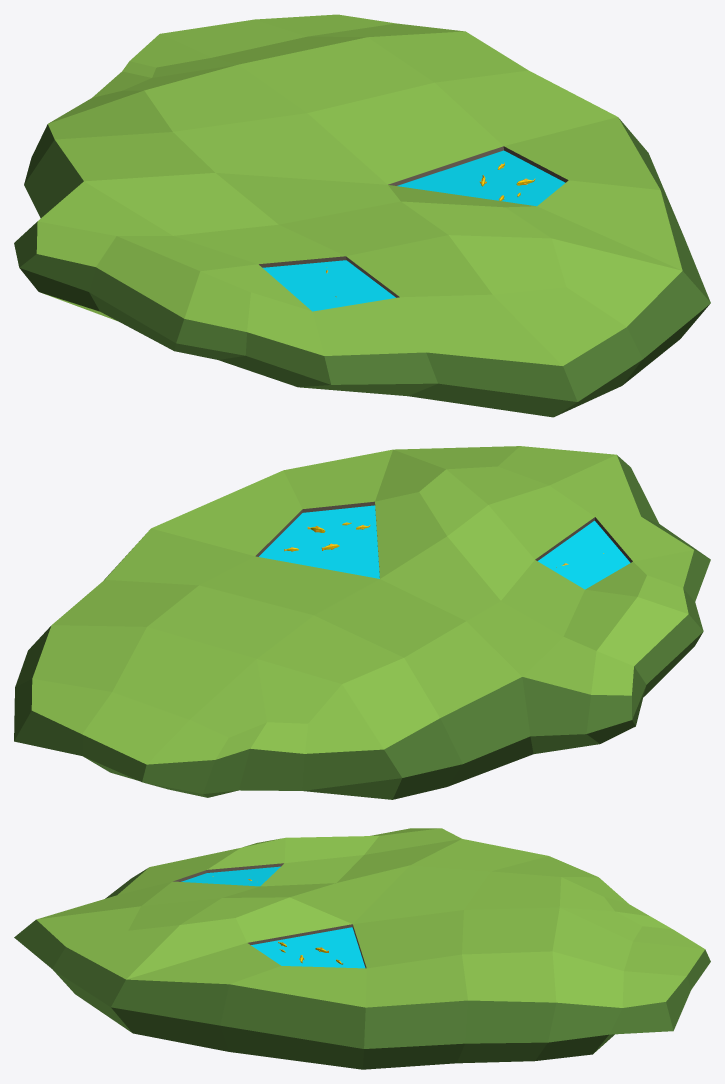
The model's file is notrees.fbx.
3 renders of one model, top to bottom at view 1: azimuth 30°, elevation 25°; view 2: azimuth 150°, elevation 25°; view 3: azimuth 270°, elevation 25°, orthographic. The views are drawn at different scales.
Parts seen in each view (by area): view 1: Asteroid_2012_D14, Asteroid_2012_D14_1; view 2: Asteroid_2012_D14, Asteroid_2012_D14_1; view 3: Asteroid_2012_D14, Asteroid_2012_D14_1.
Part boxes in pixels (bbox=[...]): Asteroid_2012_D14: bbox=[14, 14, 710, 417]; Asteroid_2012_D14_1: bbox=[262, 150, 565, 311]; Asteroid_2012_D14: bbox=[14, 446, 710, 799]; Asteroid_2012_D14_1: bbox=[259, 505, 630, 589]; Asteroid_2012_D14: bbox=[14, 828, 710, 1069]; Asteroid_2012_D14_1: bbox=[181, 866, 365, 968].
Size of the model in its own units: 17078 by 3527 by 23852.
